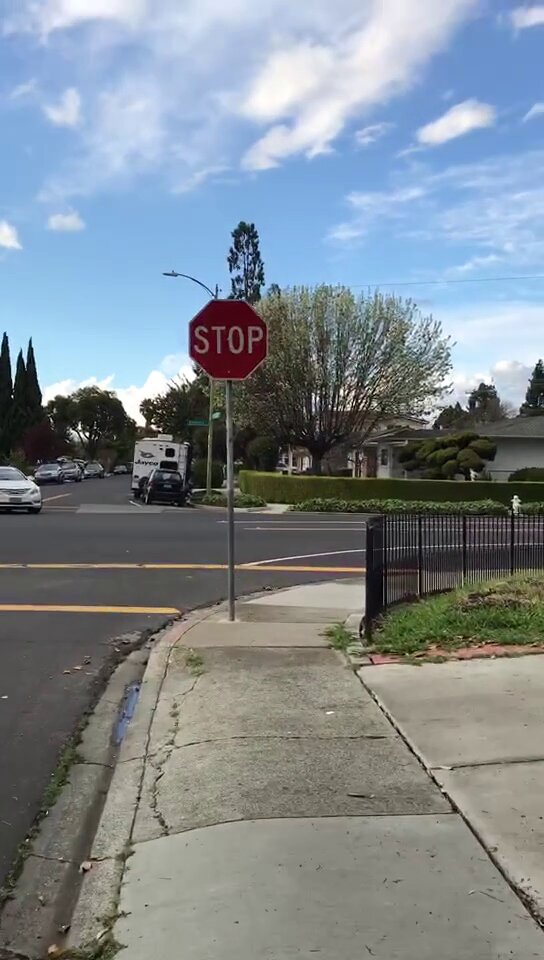stop_sign: (188, 297, 269, 382)
